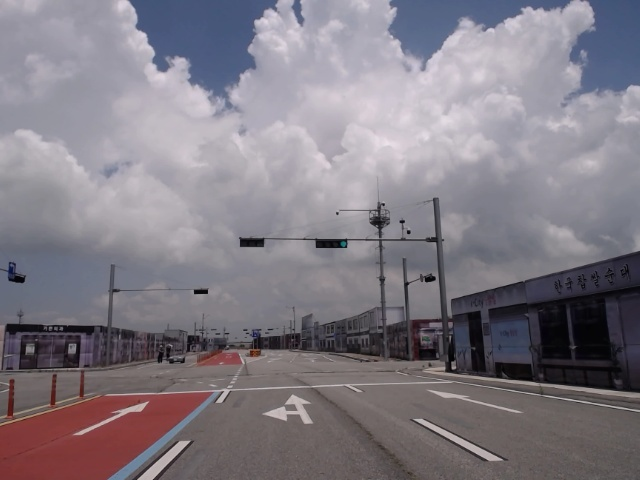straight_green_4: (314, 238, 347, 252)
